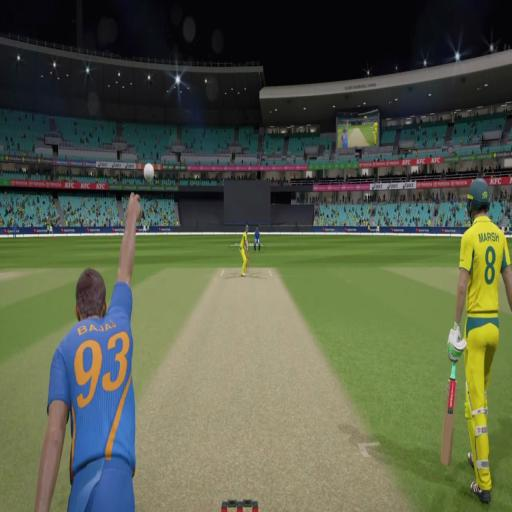ball: (143, 161, 155, 186)
